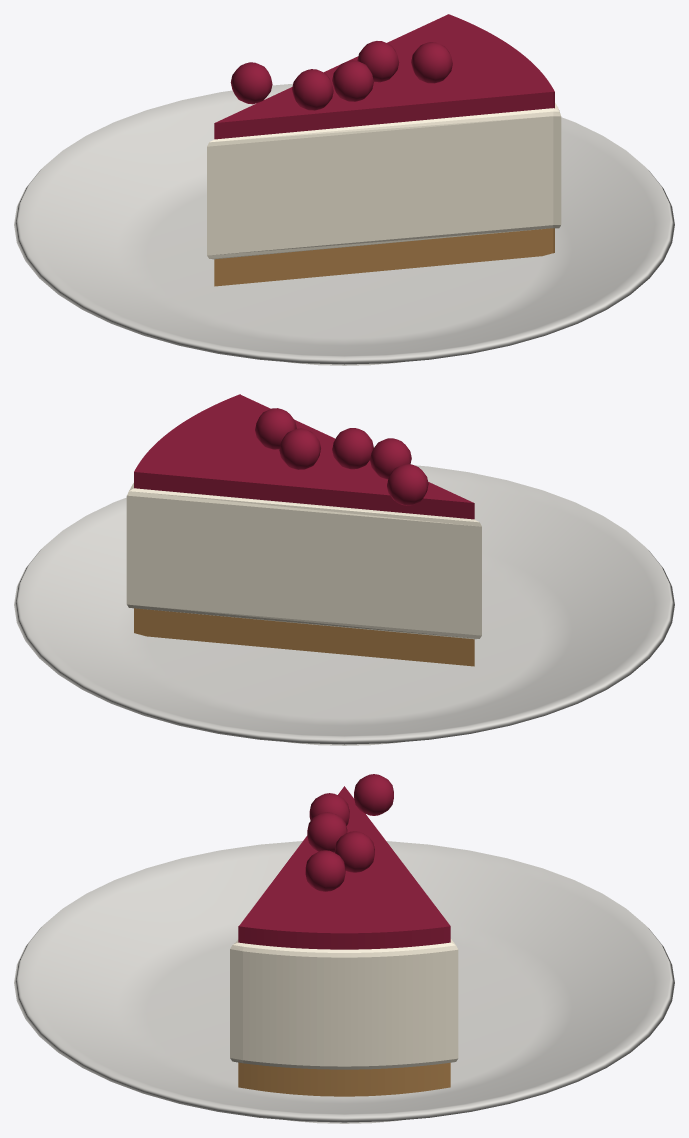
The model's file is cheesecake.glb.
3 views of the same model, one above another, from view 1: azimuth 30°, elevation 25°; view 2: azimuth 150°, elevation 25°; view 3: azimuth 270°, elevation 25° (orthographic).
Parts seen in each view (by area): view 1: cheesecake; view 2: cheesecake; view 3: cheesecake.
Boxes of the visible parts, x1,y1,x2,y2 form: cheesecake: [14, 14, 674, 365]; cheesecake: [14, 394, 674, 745]; cheesecake: [14, 774, 674, 1123].
Size of the model in its own units: 0.22 by 0.082 by 0.22.
